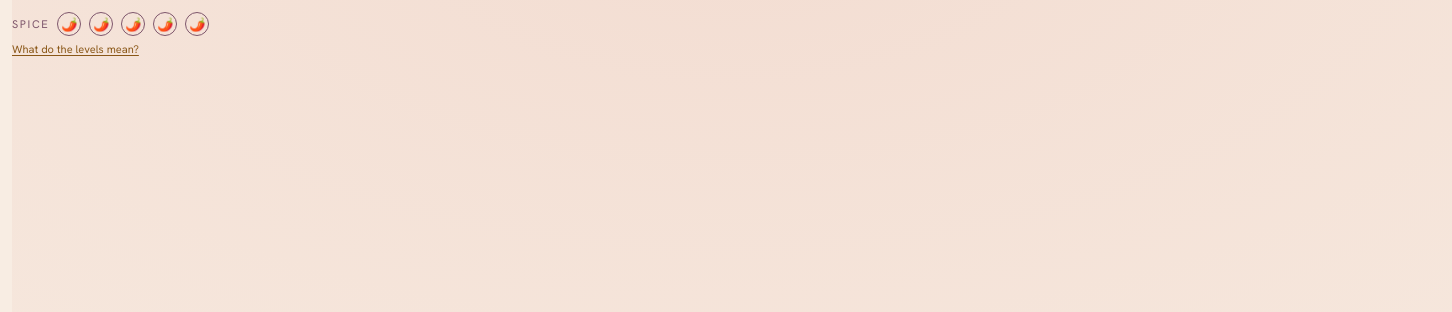
Test case: LevelPicker — click pins, and still sets the level › re-clicking the same level closes the guide it pinned
Click the button named "Spice 4 —" at (165, 24), box [153,12,177,36]
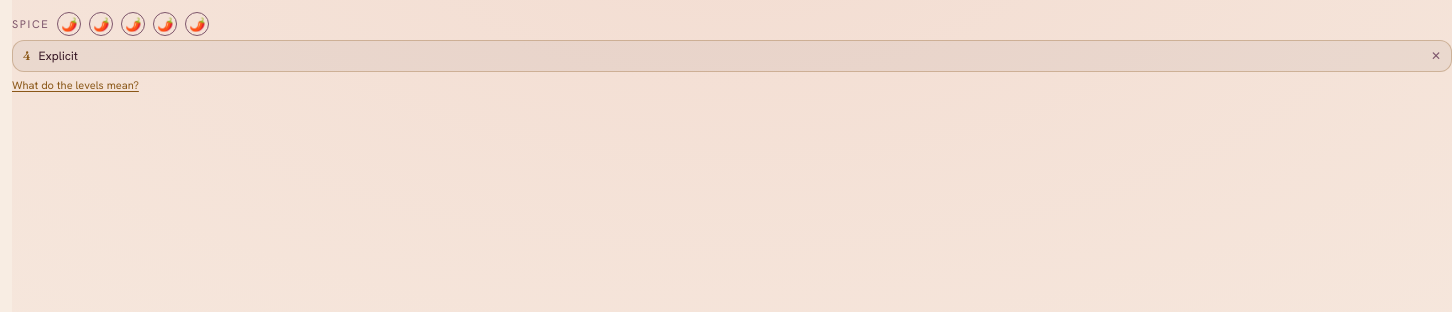
Check: the message "4 Explicit ✕" is shown, box [12,40,1451,72]
Click the button named "Spice 4 —" at (165, 24), box [153,12,177,36]
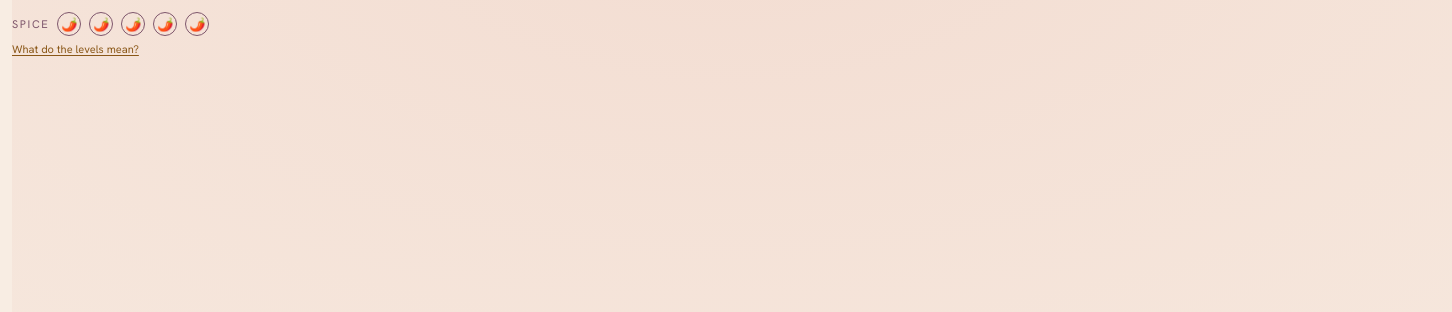
Check: the message "4 Explicit ✕" is gone
